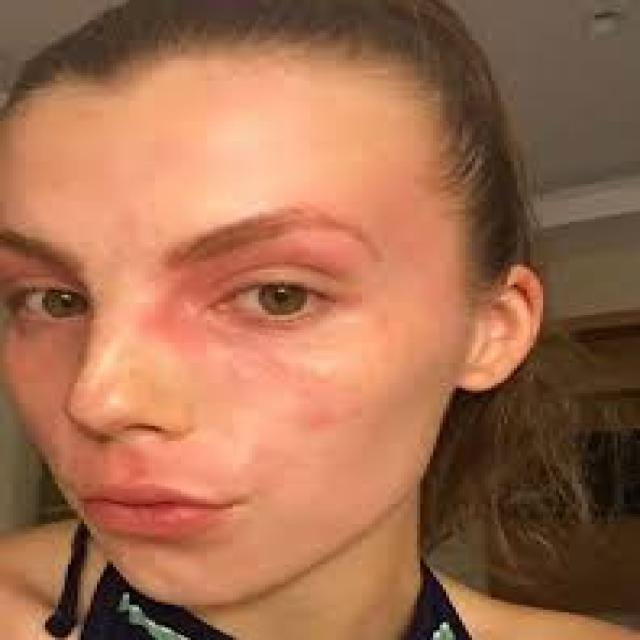Eczema: (126, 246, 415, 424)
